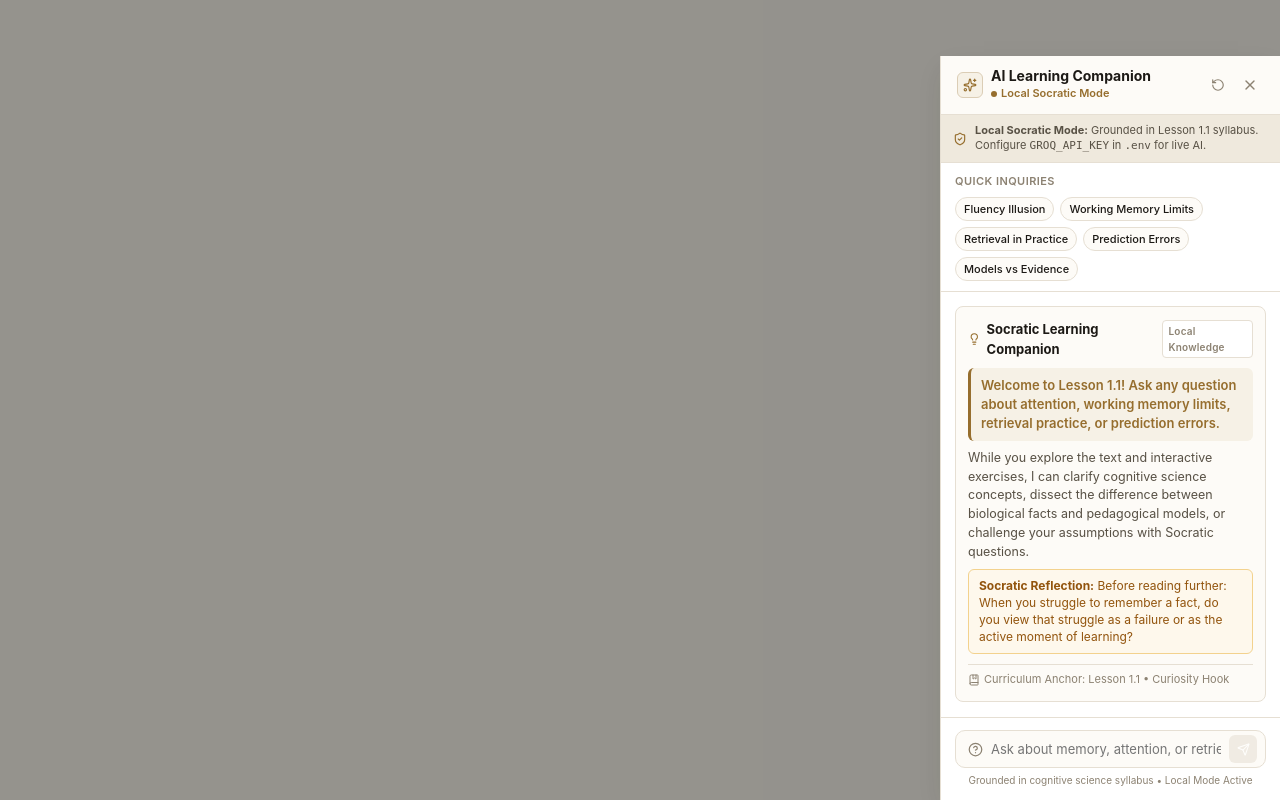
Test: AITutorPanel Component Suite › resets conversation history when reset button is clicked
Click the button named "Reset conversation": [1218, 85] box [1204,71,1232,99]
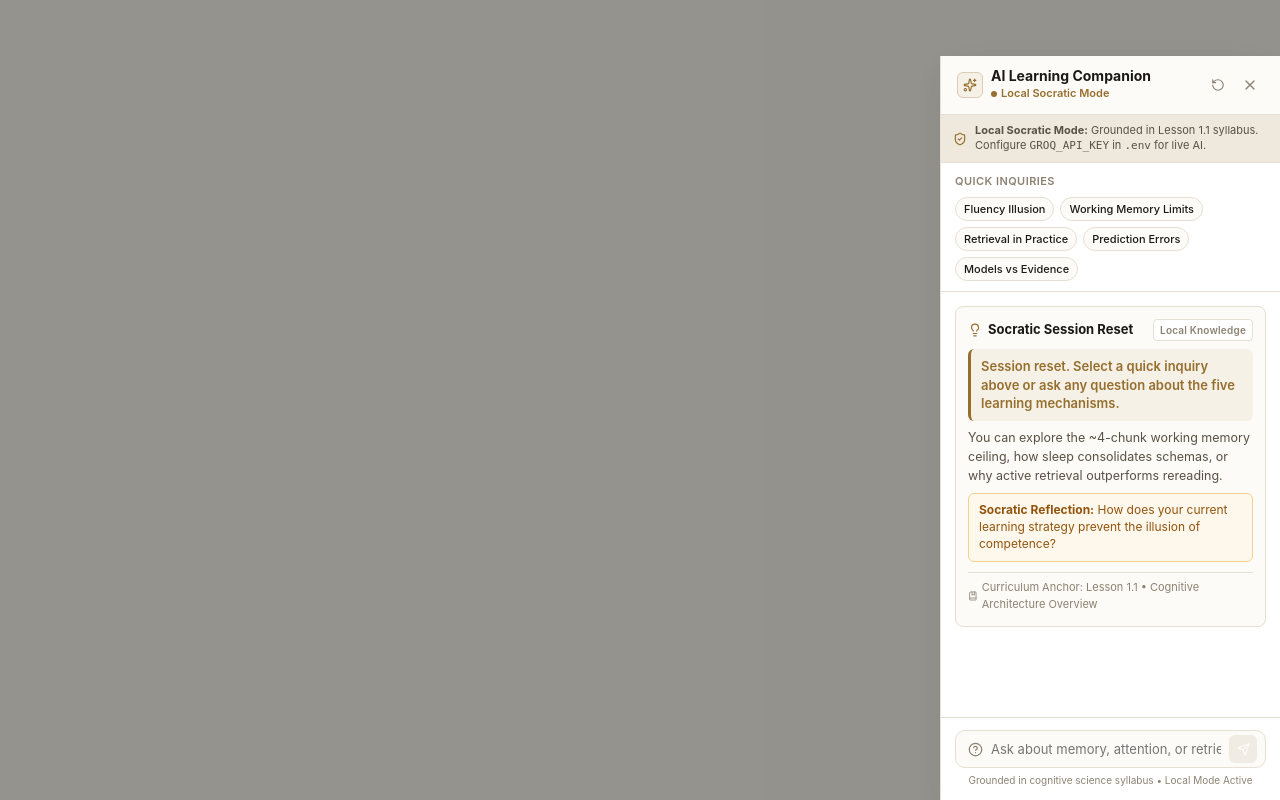
expect the text "Socratic Session Reset" is shown: met, box [988,319,1133,340]
expect the text "Session reset. Select a quick inquiry above" is shown: met, box [981,358,1235,411]
